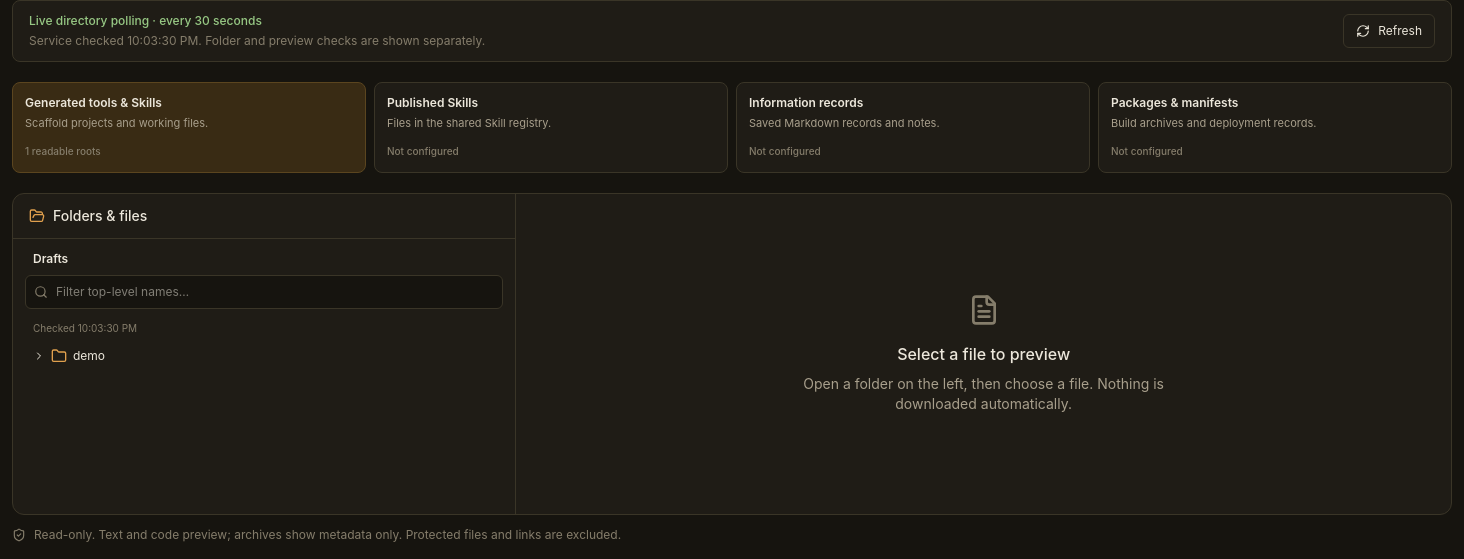
Scenario: Files live browser › clears a preview when permission is revoked
The image size is (1464, 559).
Click the button "demo": (89,356) [25,340,503,372]
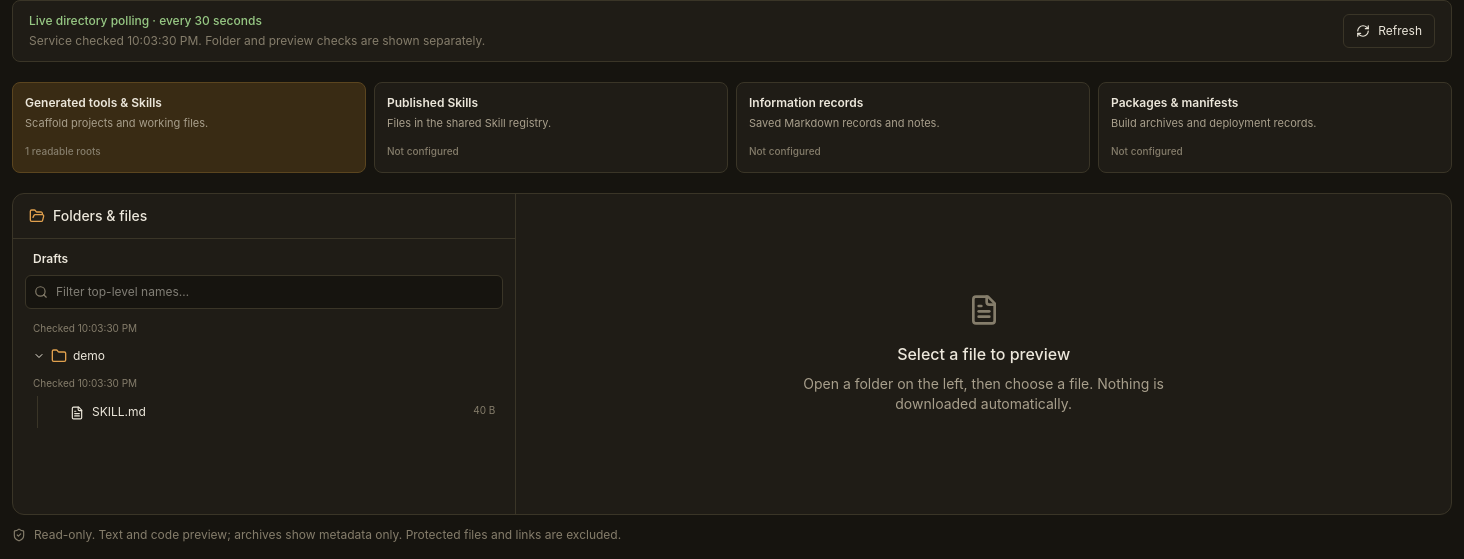
Click the button "SKILL.md 40 B": (119,411) [46,396,503,428]
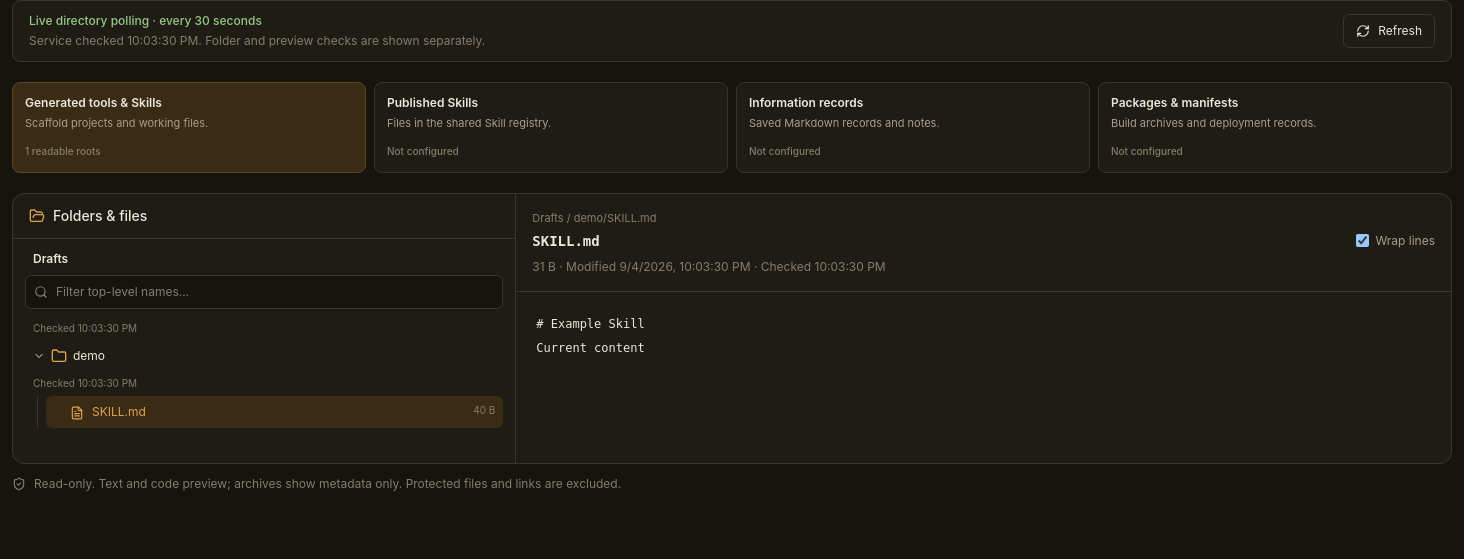
Check: the element named "File content" is shown, box [536,317,645,355]
Click the button "Refresh": (1389,31) [1343,14,1435,48]
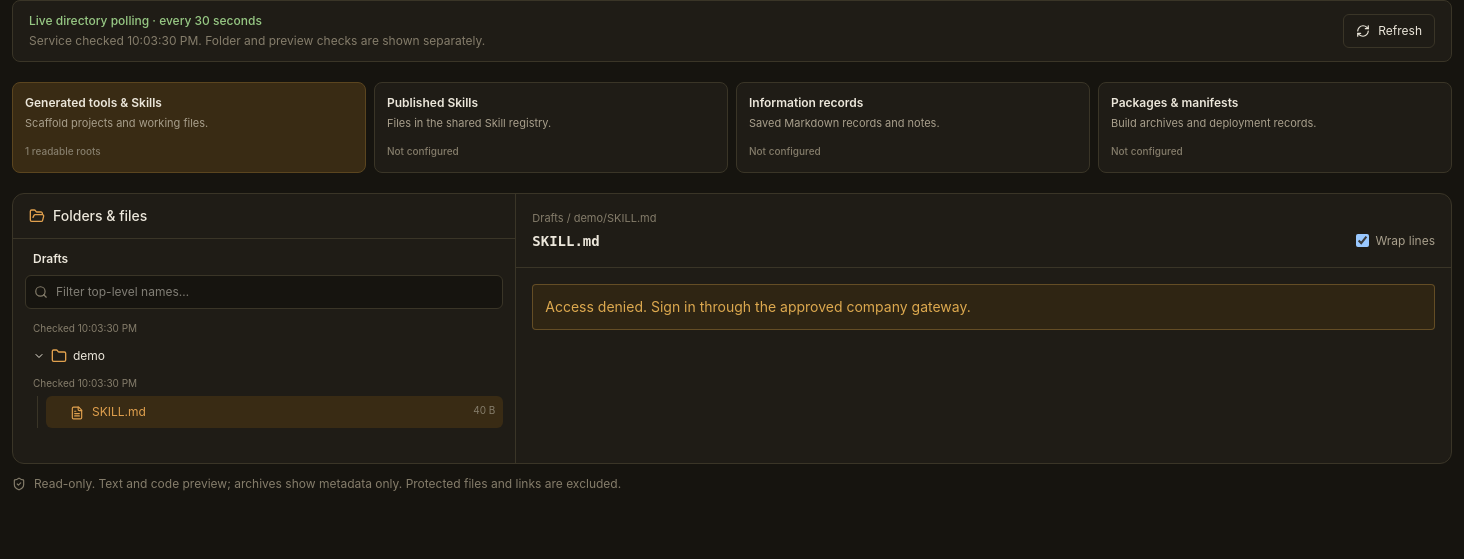
Check: the text "Access denied. Sign in through the approved company gateway." is shown, box [532,284,1435,330]
